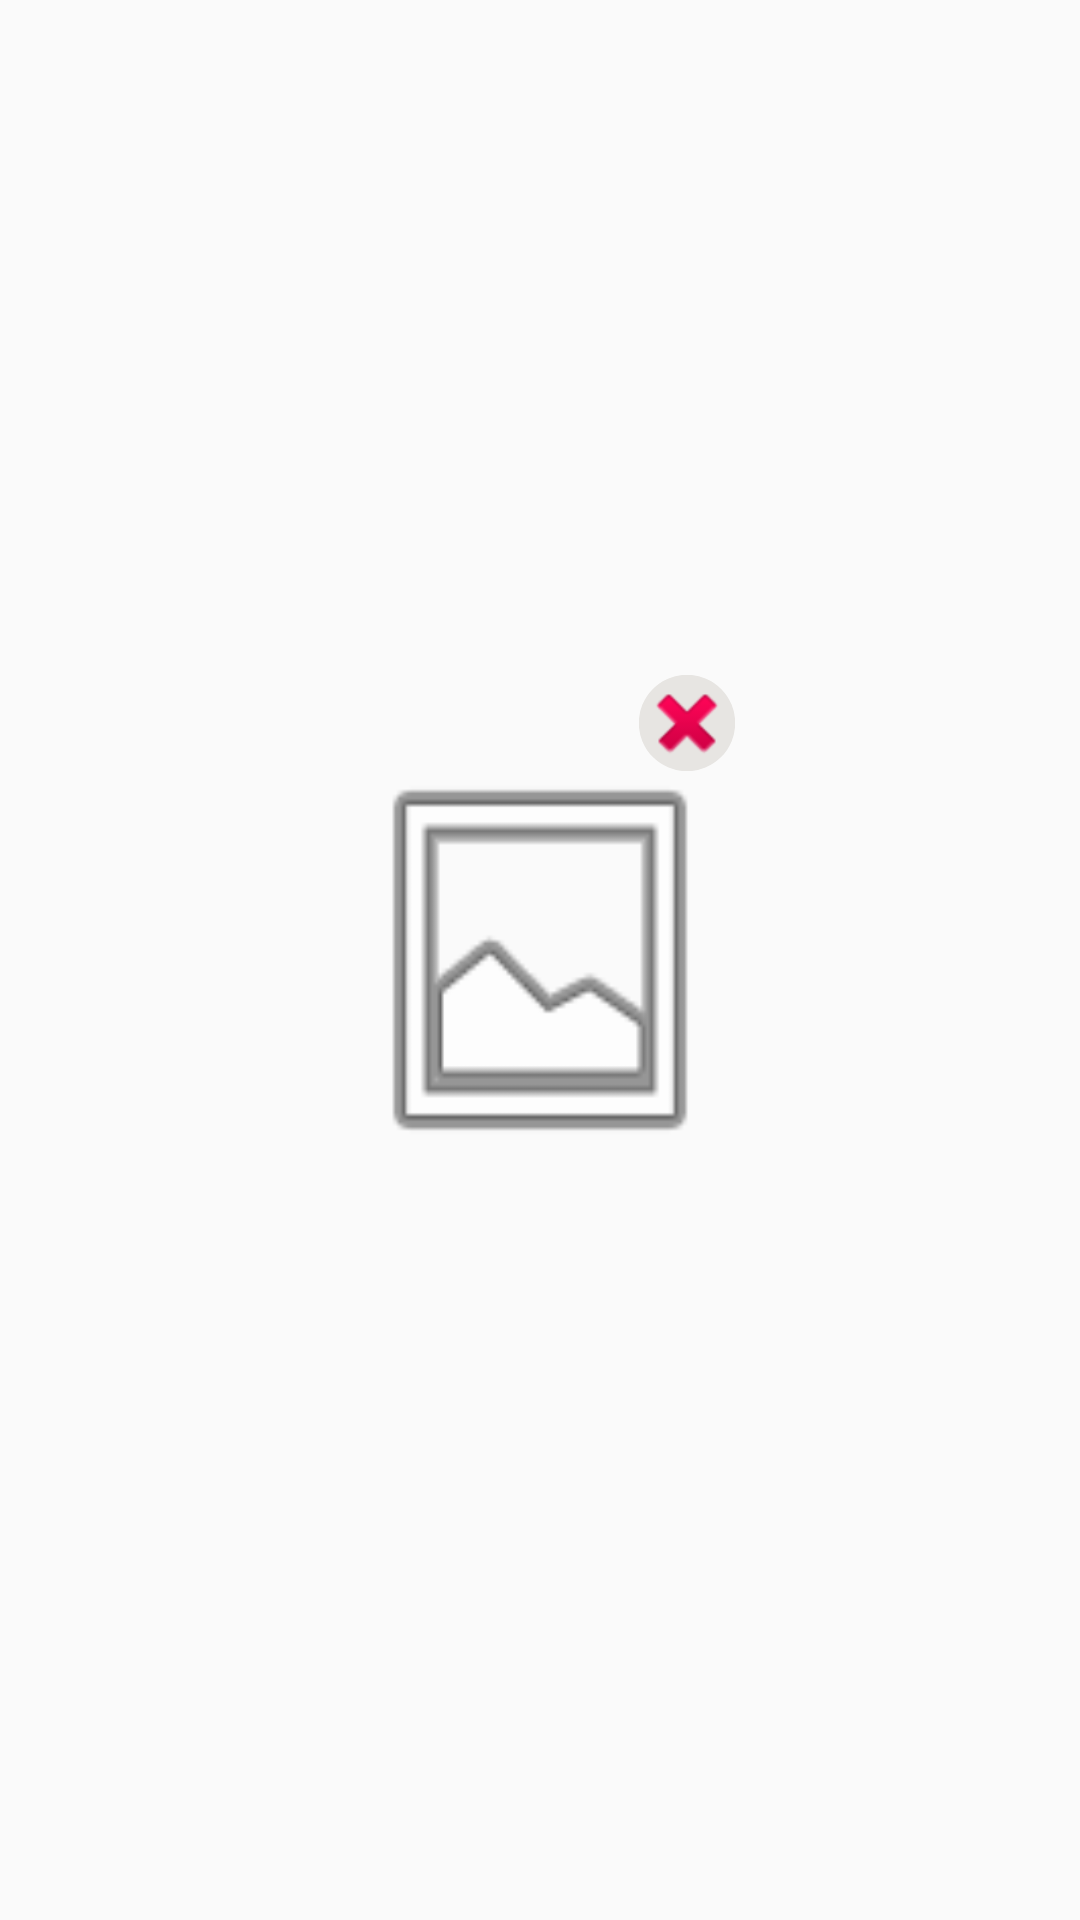

Named icons in this screenshot (1080px x 1920px) and their centers, (x,y):
circle delete: (687,723)
gallery: (540,960)
